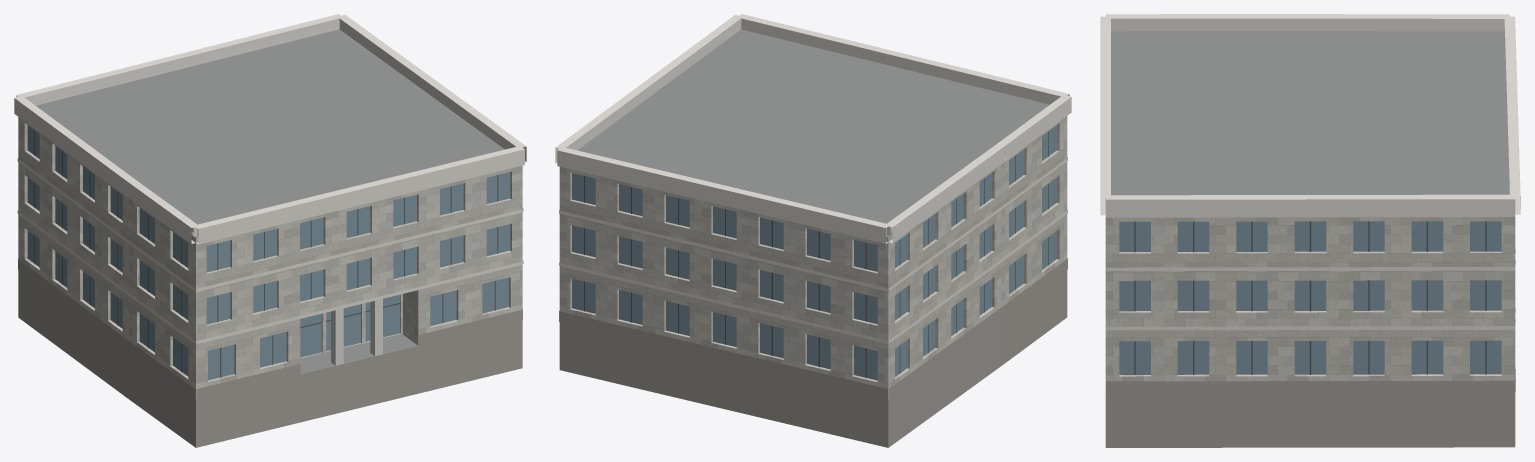
3 renders of one model, left to right at view 1: azimuth 30°, elevation 25°; view 2: azimuth 150°, elevation 25°; view 3: azimuth 270°, elevation 25°, orthographic. The views are drawn at different scales.
Visible parts, largest first — view 1: gradSchool__roof, gradSchool__wall, gradSchool__base, gradSchool__trim, gradSchool__glass, gradSchool__frame, gradSchool__column; view 2: gradSchool__wall, gradSchool__roof, gradSchool__base, gradSchool__trim, gradSchool__glass, gradSchool__frame; view 3: gradSchool__roof, gradSchool__wall, gradSchool__base, gradSchool__trim, gradSchool__glass, gradSchool__frame.
Part boxes in pixels (<box>): gradSchool__roof: <box>36,29,504,374</box>; gradSchool__wall: <box>18,117,522,399</box>; gradSchool__base: <box>18,258,522,447</box>; gradSchool__trim: <box>14,14,526,344</box>; gradSchool__glass: <box>27,125,510,380</box>; gradSchool__frame: <box>34,130,498,377</box>; gradSchool__column: <box>331,299,382,365</box>; gradSchool__wall: <box>559,116,1067,399</box>; gradSchool__roof: <box>577,29,1049,237</box>; gradSchool__base: <box>559,258,1067,447</box>; gradSchool__trim: <box>555,14,1071,343</box>; gradSchool__glass: <box>572,125,1056,380</box>; gradSchool__frame: <box>584,131,1048,378</box>; gradSchool__roof: <box>1105,31,1509,209</box>; gradSchool__wall: <box>1105,210,1515,393</box>; gradSchool__base: <box>1105,369,1515,447</box>; gradSchool__trim: <box>1100,14,1520,330</box>; gradSchool__glass: <box>1119,221,1501,374</box>; gradSchool__frame: <box>1134,221,1486,374</box>.
Size of the model in its own units: 25.6 by 16.1 by 24.48.
8 materials, 1 textured.
